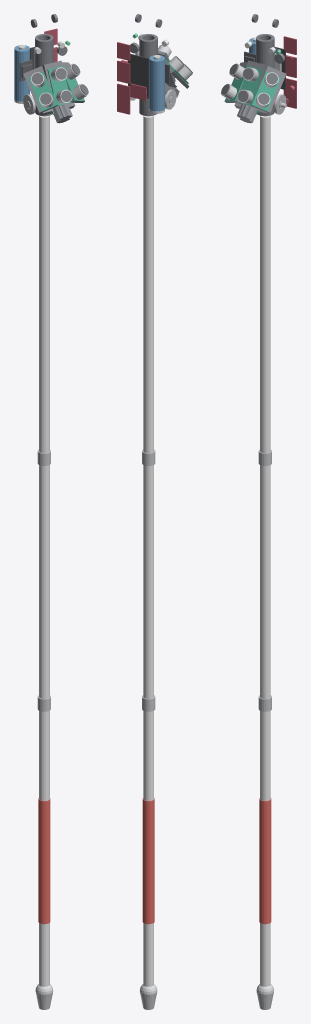
The model's file is navion-body.glb.
3 views of the same model, side by side, from view 1: azimuth 30°, elevation 25°; view 2: azimuth 150°, elevation 25°; view 3: azimuth 330°, elevation 25° (orthographic).
Parts seen in each view (by area): view 1: cane_shaft, cane_band, sensor_bracket, battery, head_frame, cane_tip, sensor_L_pcb, sensor_C_pcb; view 2: cane_shaft, cane_band, battery, mcu_esp32, head_frame, boost_mt3608, cane_tip, sensor_bracket, charger_tp4056, buckboost, drv_haptic, detent_arc; view 3: cane_shaft, cane_band, sensor_bracket, head_frame, cane_tip, sensor_R_pcb, boost_mt3608, sensor_C_pcb, charger_tp4056, drv_haptic.
Part boxes in pixels (x1,y1,x2,y2): cane_shaft: [39, 115, 49, 986]; cane_band: [38, 798, 50, 924]; sensor_bracket: [23, 60, 84, 123]; battery: [14, 45, 29, 101]; head_frame: [35, 34, 53, 116]; cane_tip: [35, 984, 53, 1009]; sensor_L_pcb: [28, 71, 57, 111]; sensor_C_pcb: [47, 65, 70, 105]; cane_shaft: [143, 115, 153, 986]; cane_band: [142, 798, 154, 924]; battery: [149, 55, 164, 111]; mcu_esp32: [128, 53, 149, 98]; head_frame: [139, 34, 157, 116]; boost_mt3608: [117, 83, 130, 114]; cane_tip: [140, 984, 157, 1009]; sensor_bracket: [127, 51, 189, 97]; charger_tp4056: [117, 60, 130, 83]; buckboost: [130, 83, 146, 100]; drv_haptic: [117, 42, 130, 60]; detent_arc: [130, 89, 176, 109]; cane_shaft: [260, 115, 270, 986]; cane_band: [259, 798, 271, 924]; sensor_bracket: [224, 60, 286, 123]; head_frame: [256, 34, 274, 116]; cane_tip: [256, 984, 273, 1009]; sensor_R_pcb: [252, 71, 281, 111]; boost_mt3608: [283, 78, 296, 108]; sensor_C_pcb: [238, 65, 262, 105]; charger_tp4056: [286, 55, 296, 77]; drv_haptic: [283, 36, 296, 54].
Bounding box in the file's own units: 0.0659 × 1.29 × 0.0815.
